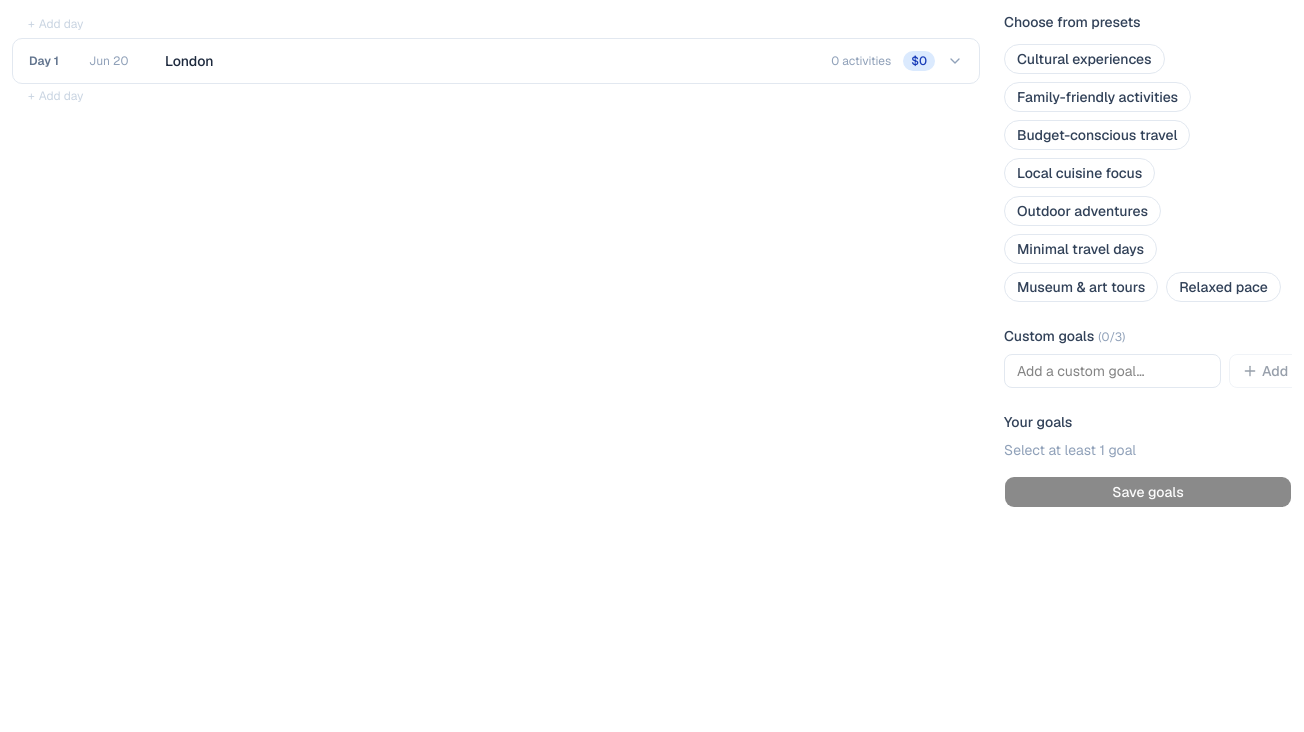
Scenario: goalError — cleared on next success › error message disappears after a subsequent successful save
Check: the text "Choose from presets" is shown, box [1004,13,1141,31]
Note: Select a goal and attempt save (fails)
Click the button "Cultural experiences". click: (1084, 59)
box: [1004,44,1165,74]
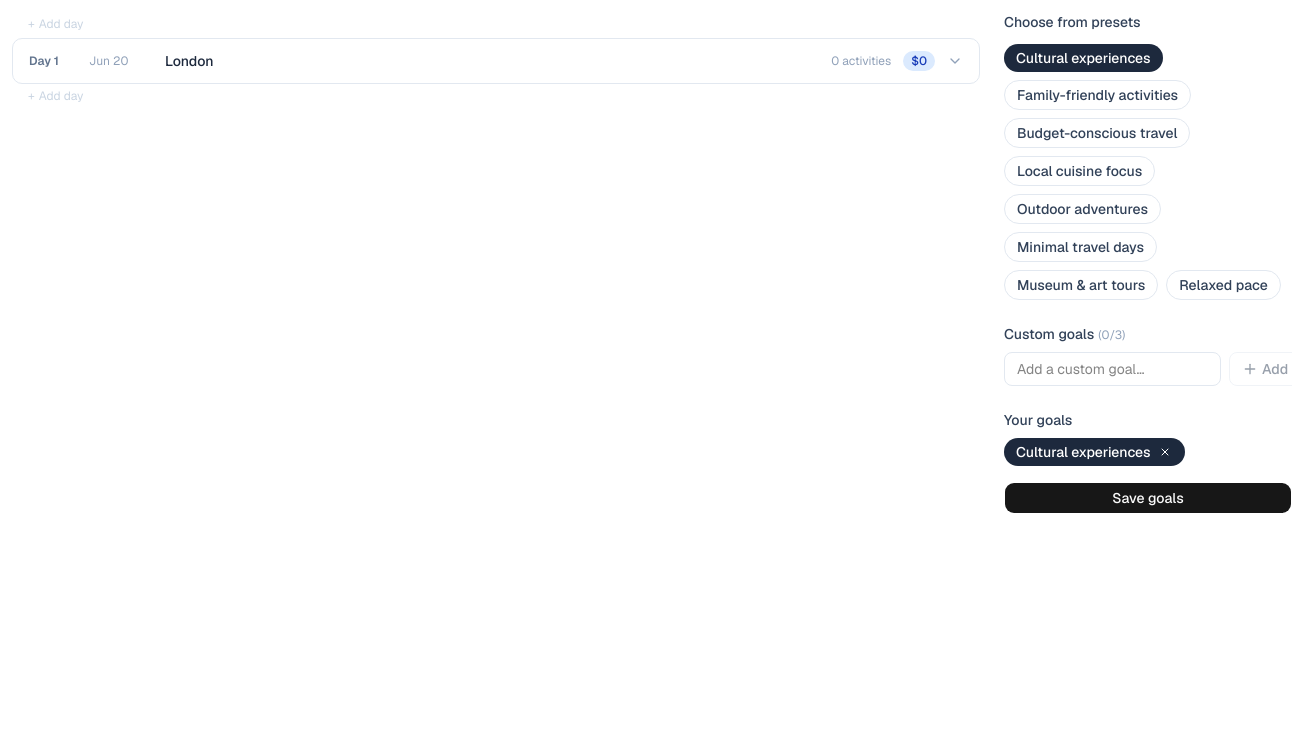
Click the button "Save goals". click: (1148, 498)
box: [1004,482,1292,514]
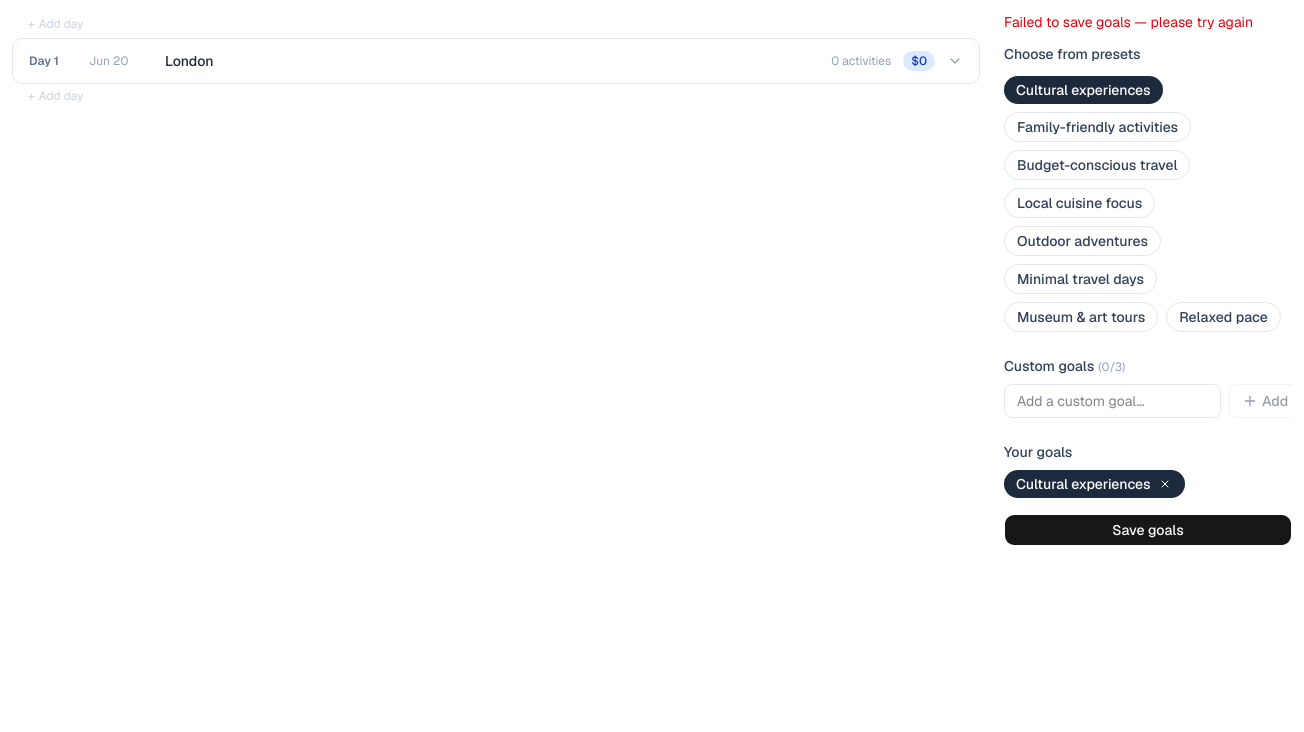
Check: the text "Failed to save goals — please try again" is shown, box [1004,12,1292,32]
Click the button "Save goals". click: (1148, 530)
box: [1004,514,1292,546]
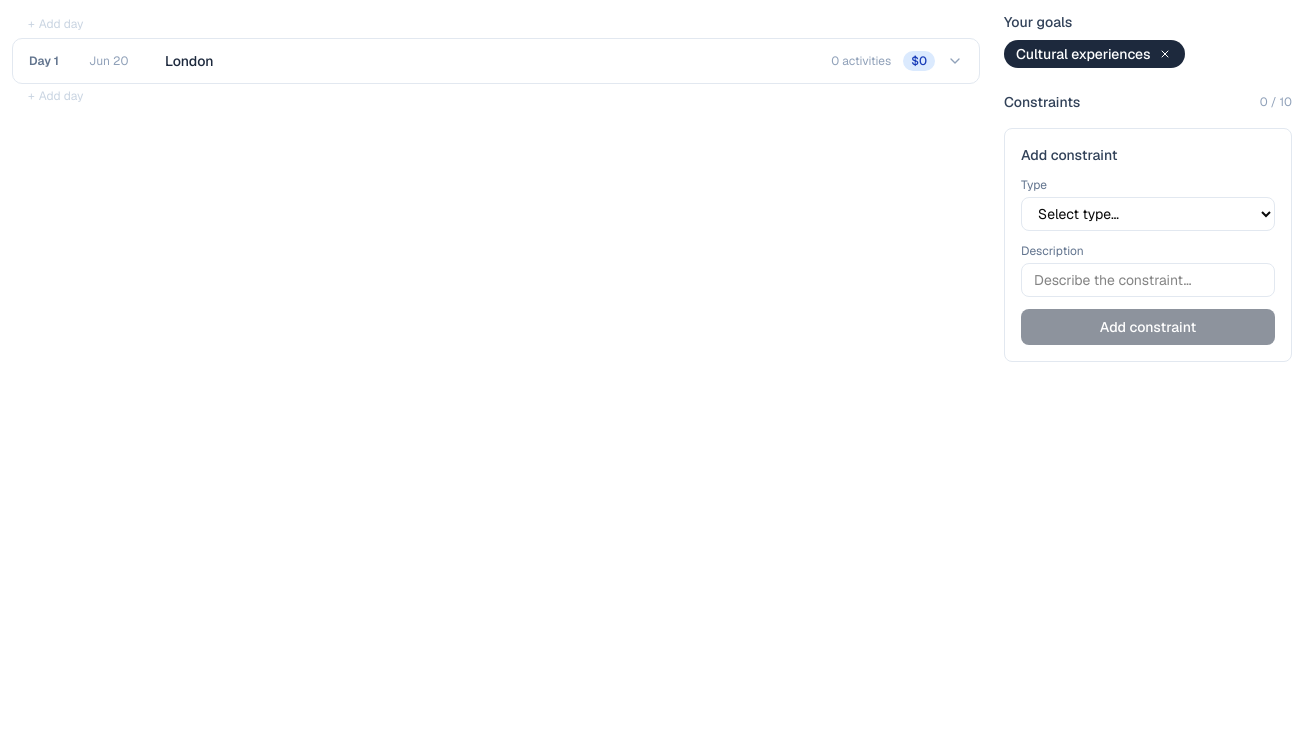
Check: the text "Failed to save goals" is gone
